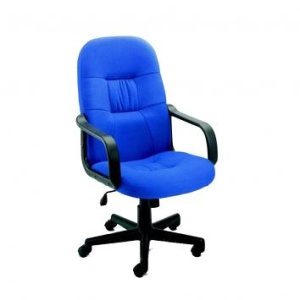chair: (76, 36, 219, 278)
